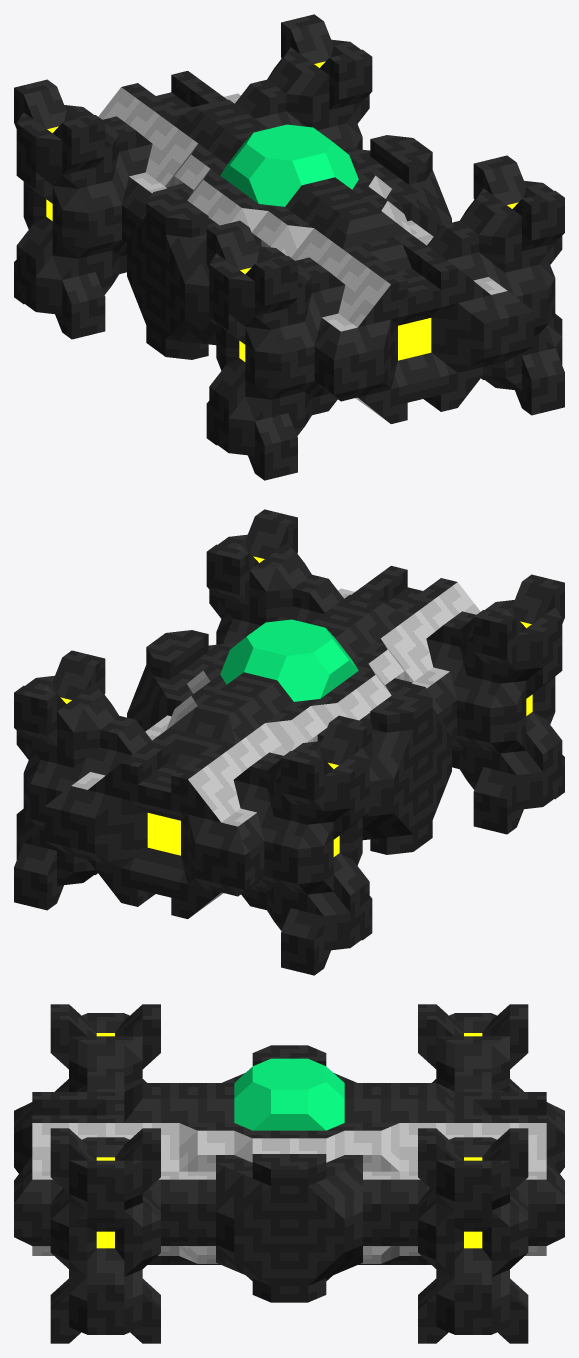
File: ship3.glb
The picture shows the model from 3 angles, top to bottom: view 1: azimuth 30°, elevation 25°; view 2: azimuth 150°, elevation 25°; view 3: azimuth 270°, elevation 25°; orthographic projection. The views are drawn at different scales.
Parts seen in each view (by area): view 1: Cube_0; view 2: Cube_0; view 3: Cube_0.
Boxes of the visible parts, x1,y1,x2,y2 form: Cube_0: (14,14,564,480); Cube_0: (14,509,564,975); Cube_0: (14,1004,564,1343).
Size of the model in its own units: 1 by 0.6 by 1.5.
Materials: 1 (1 with a texture image).
